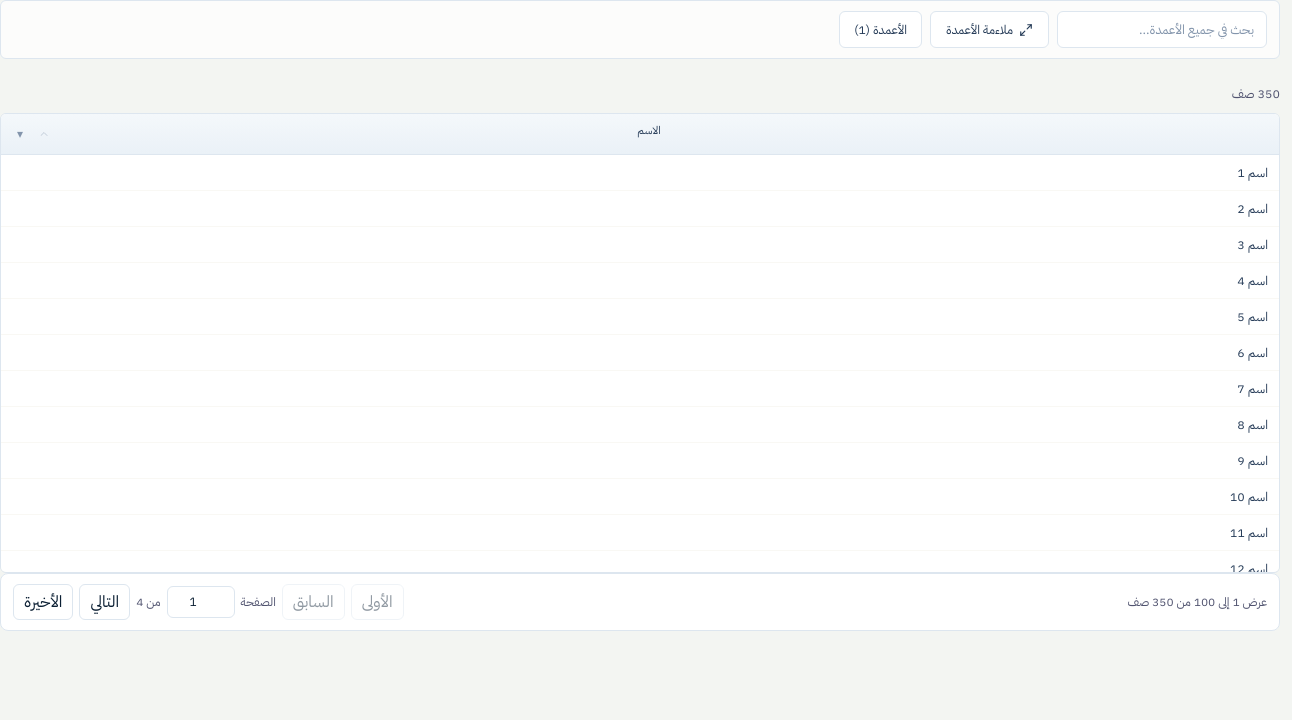
Test: DataTable — page retention across refreshes › keeps the page across a refresh even with no resetToken at all
Replace the text in the number field named "رقم الصفحة" with "3". click: (201, 602)
box: [167,586,235,618]
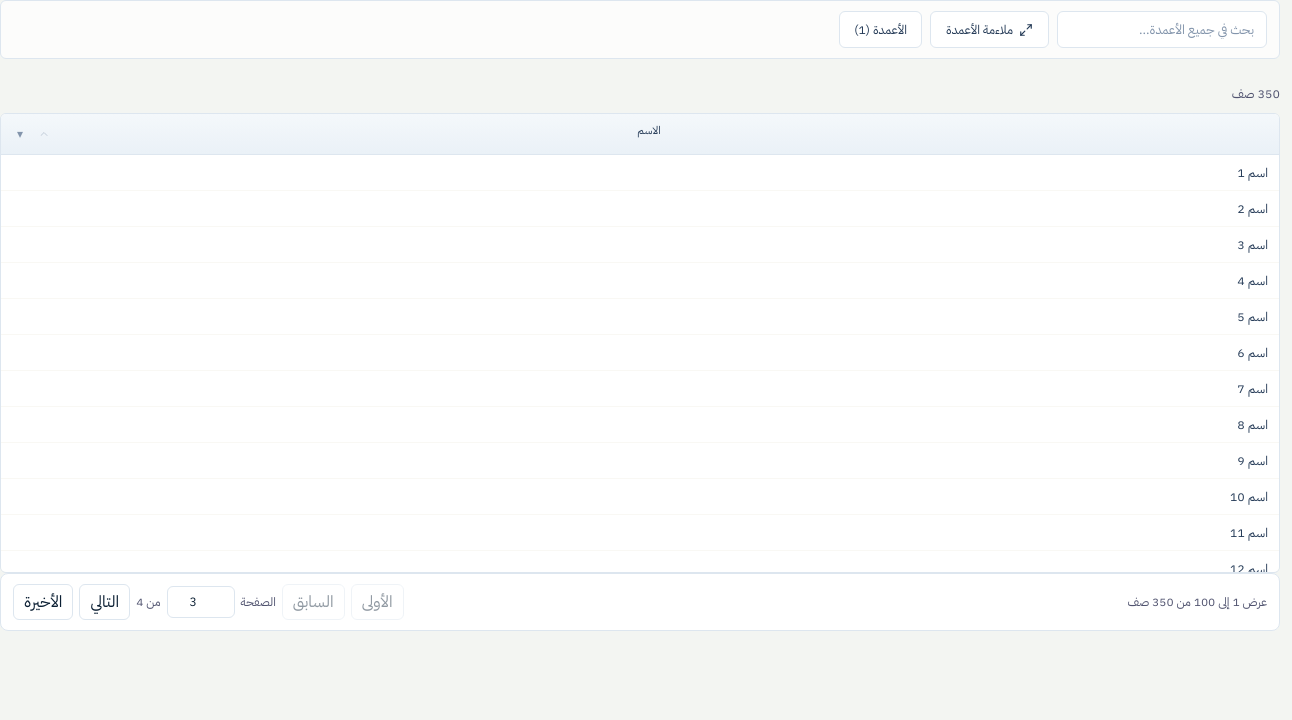
Leave the number field named "رقم الصفحة", box [167,586,235,618]
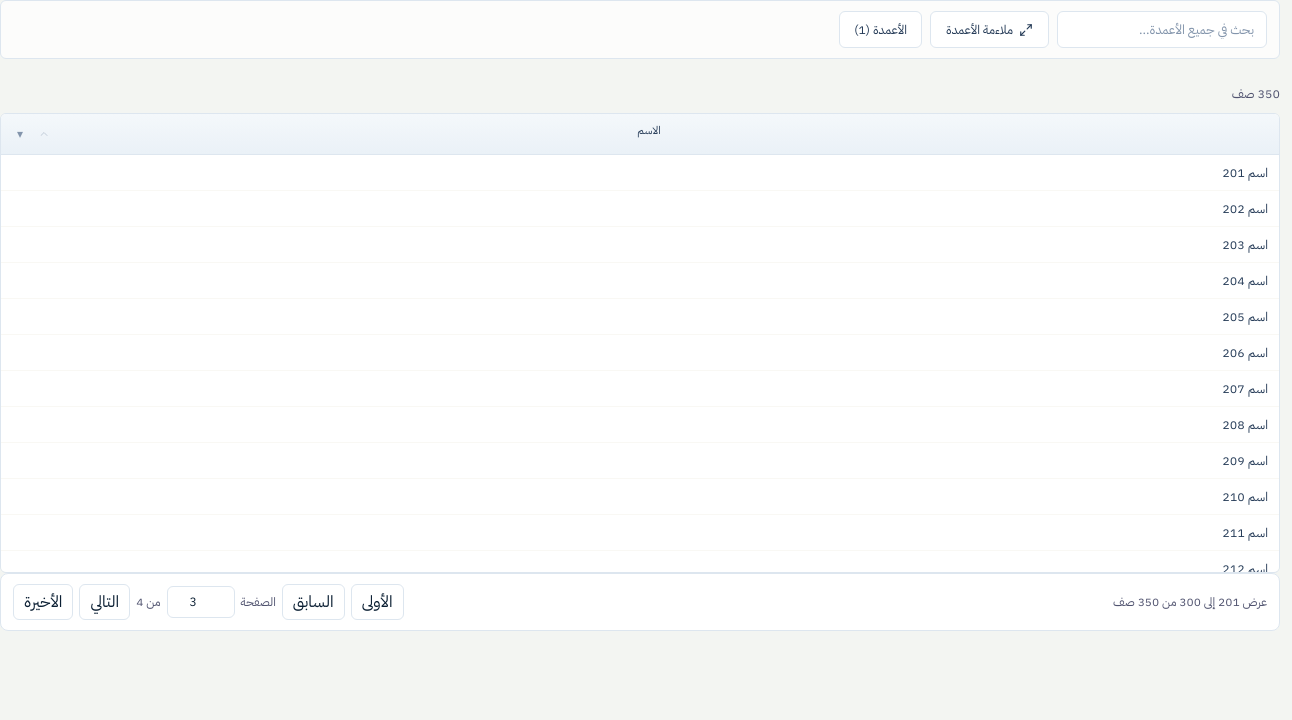
Expected: the element with class "data-pagination-summary" reads "عرض 201 إلى 300 من 350 صف", [1113,592,1267,610]
